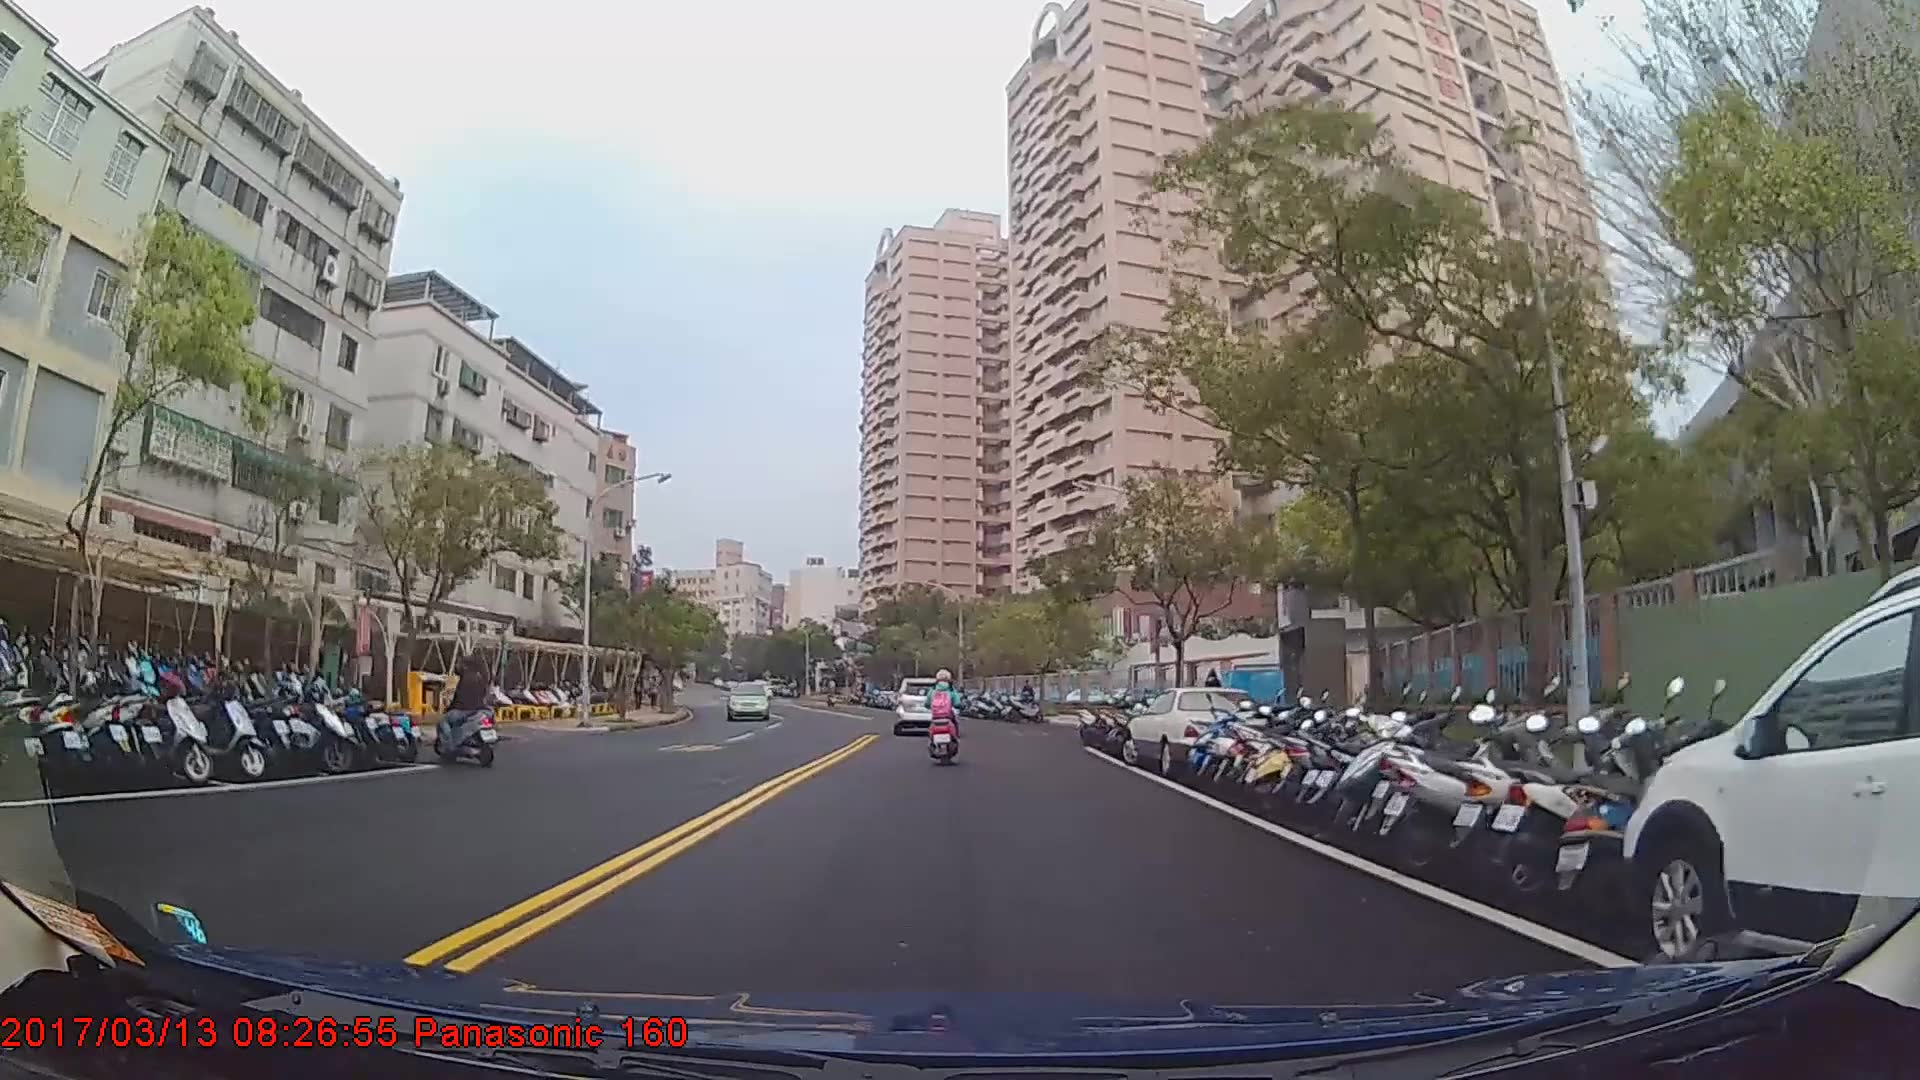pedestrian: (1204, 669, 1225, 725)
rider: (436, 650, 492, 762), (924, 666, 963, 769)
vehicle: (1622, 557, 1920, 986), (1120, 686, 1268, 777), (888, 674, 954, 732), (723, 680, 771, 722)
